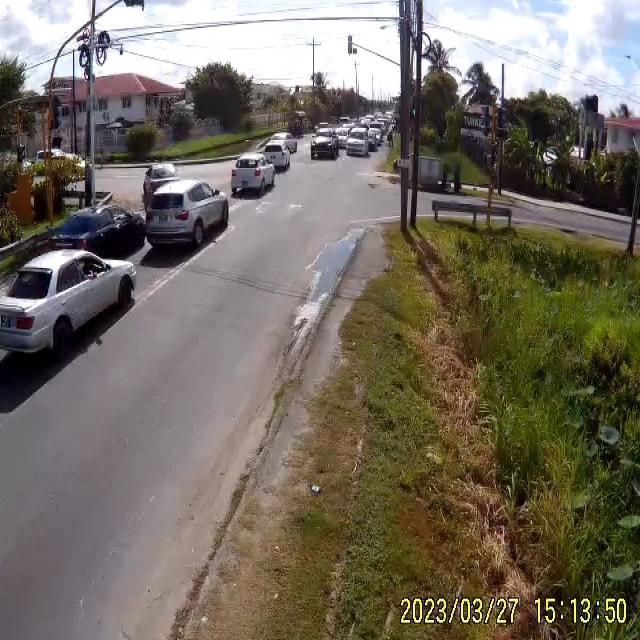car: (0, 247, 136, 365), (144, 179, 230, 251), (230, 156, 274, 198), (263, 142, 291, 173), (309, 133, 339, 158), (266, 132, 296, 154), (344, 136, 368, 155)
